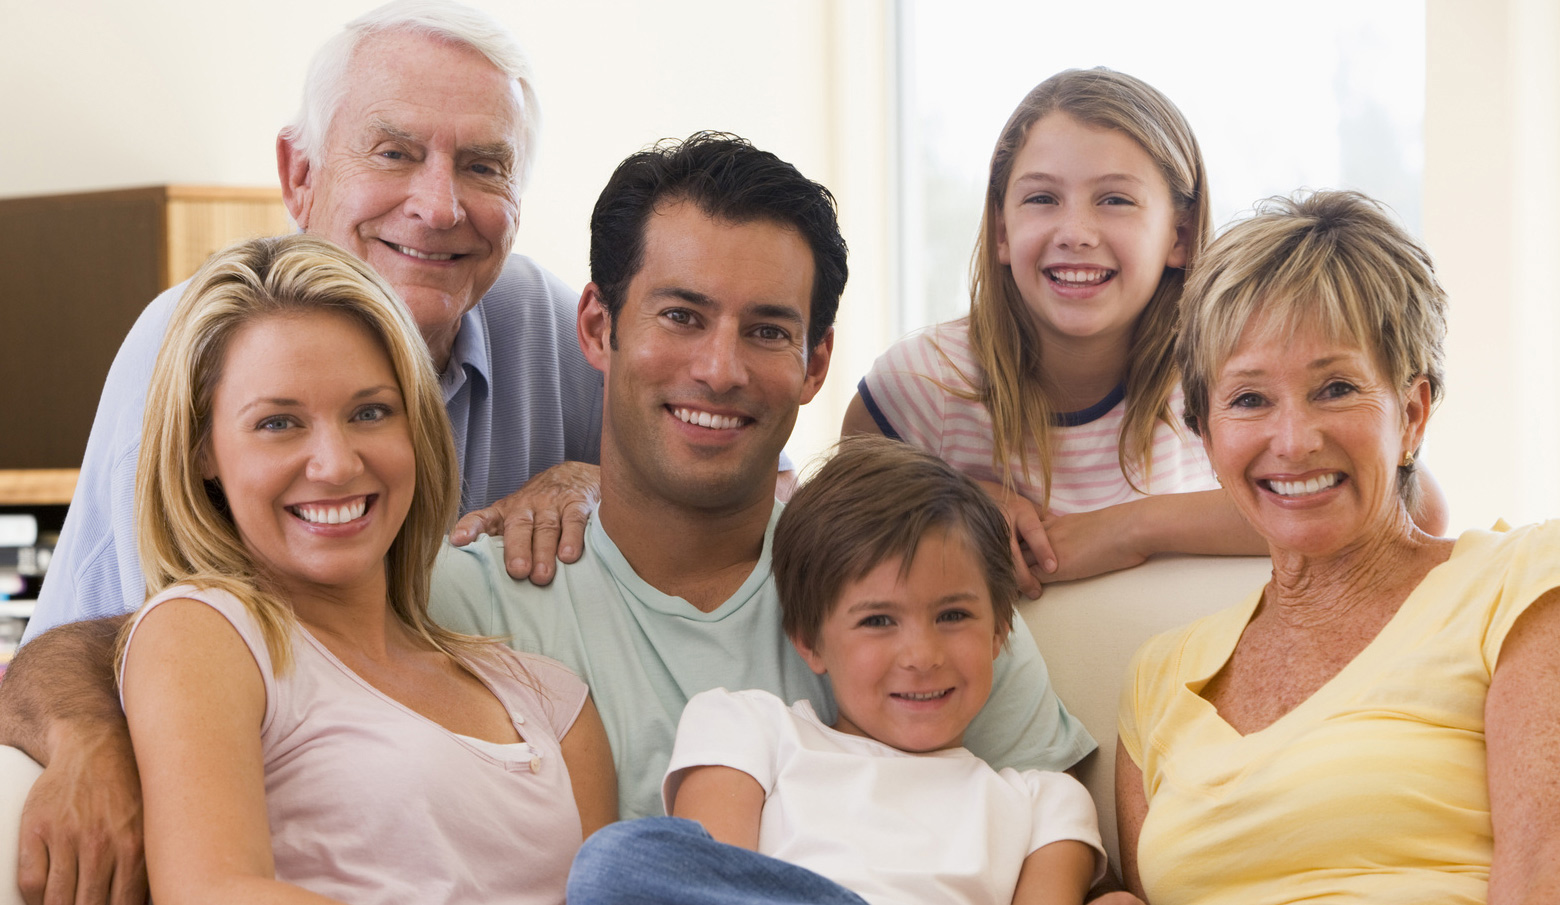without_mask: (328, 45, 523, 332), (1194, 309, 1412, 560), (215, 309, 419, 573), (626, 210, 806, 492), (996, 113, 1176, 332), (815, 531, 991, 745)
